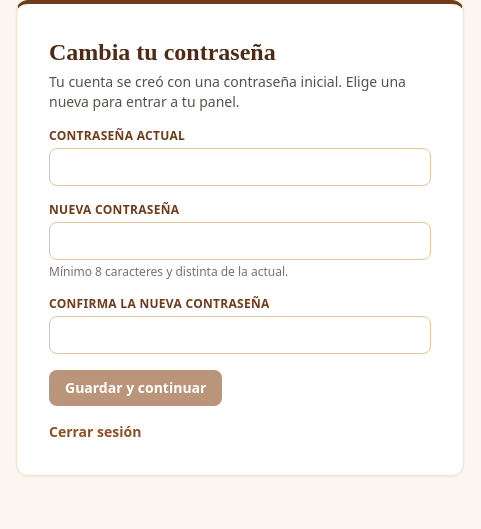
ChangePasswordPage › explains a wrong current password
This screenshot has width=481, height=529.
Type "equivocada" into the password field labelled "Contraseña actual" at (240, 167), box x1=49 y1=148 x2=431 y2=186
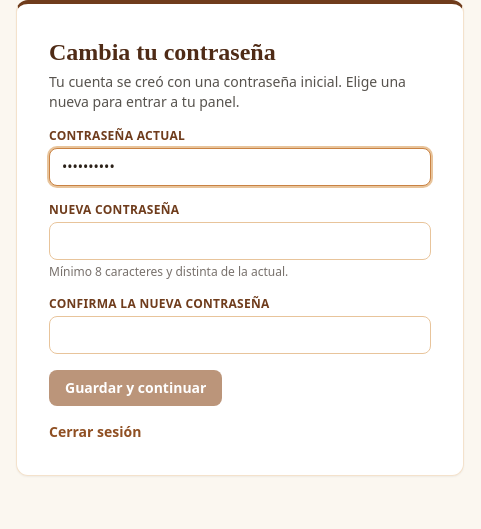
Type "nueva-segura" into the password field labelled "Nueva contraseña" at (240, 241), box x1=49 y1=222 x2=431 y2=260
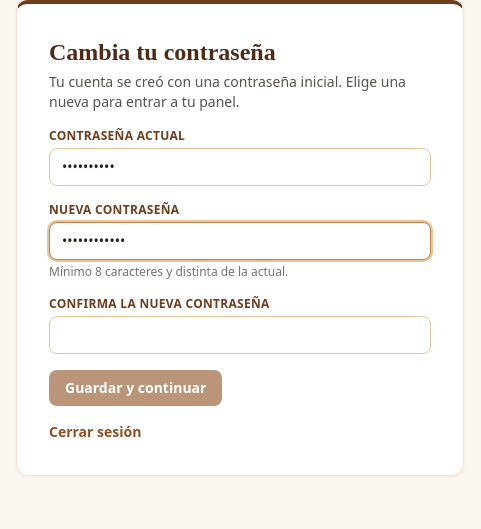
Type "nueva-segura" into the password field labelled "Confirma la nueva contraseña" at (240, 335), box x1=49 y1=316 x2=431 y2=354
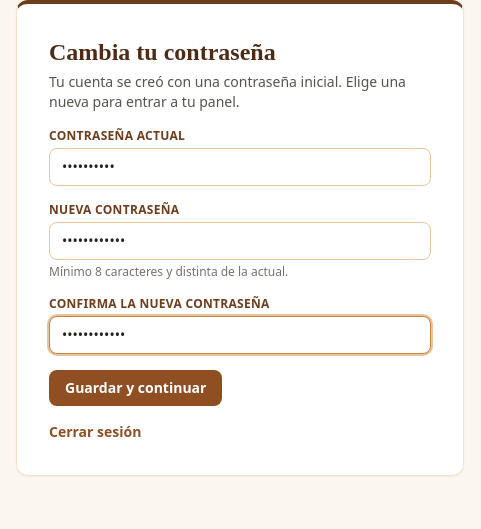
Click the button "Guardar y continuar" at (136, 388), box x1=49 y1=370 x2=222 y2=406
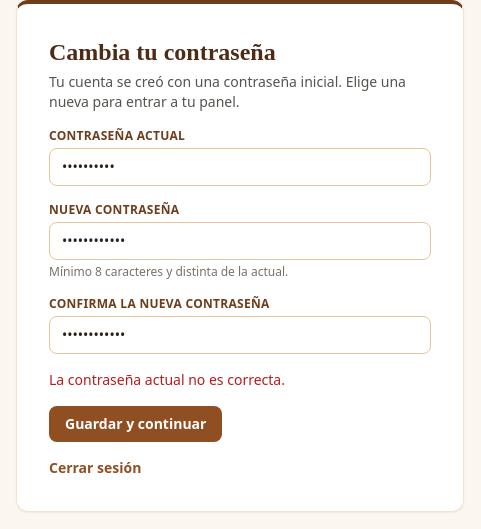
Expected: the message reads "La contraseña actual no es correcta.", x1=49 y1=370 x2=285 y2=389
